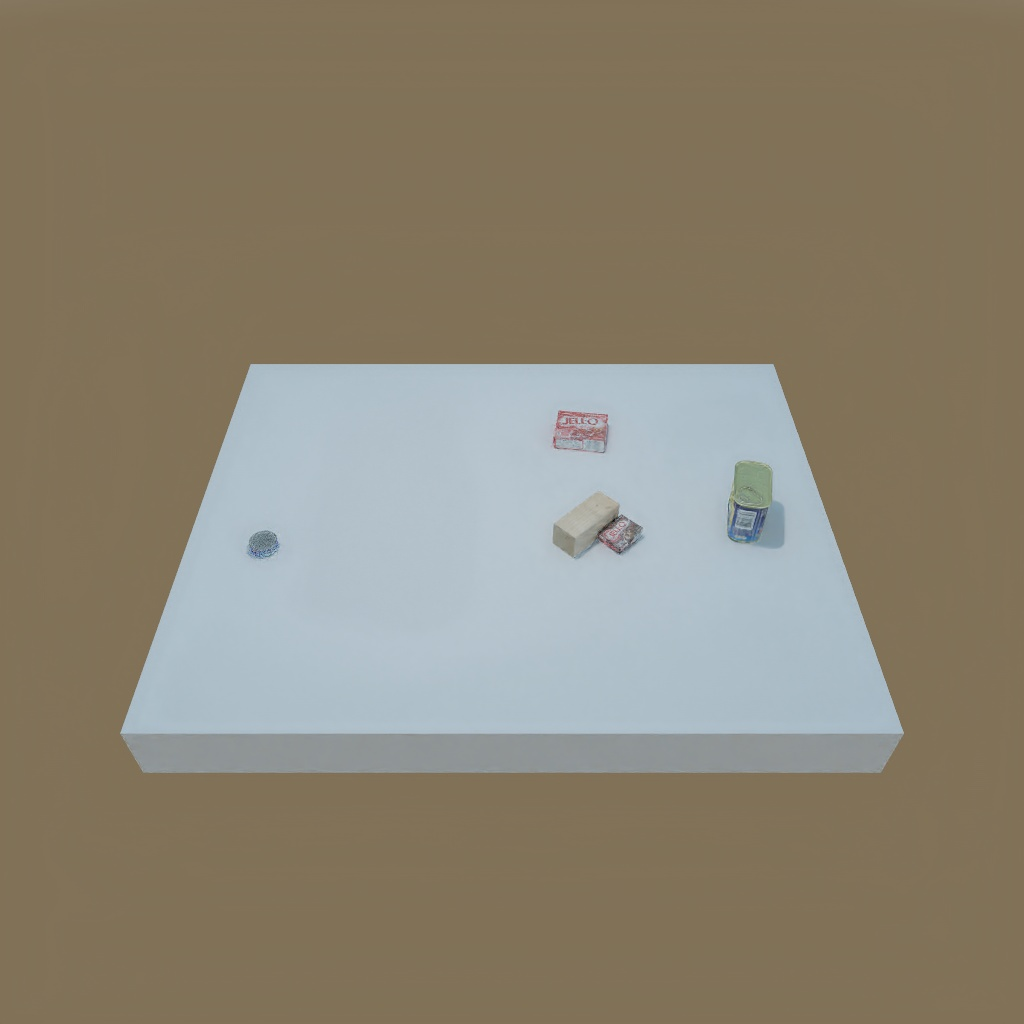gelatin_box: (547, 404, 613, 456)
potted_meat_can: (725, 463, 777, 539)
pudding_box: (600, 517, 644, 555)
wood_block: (556, 499, 615, 556)
